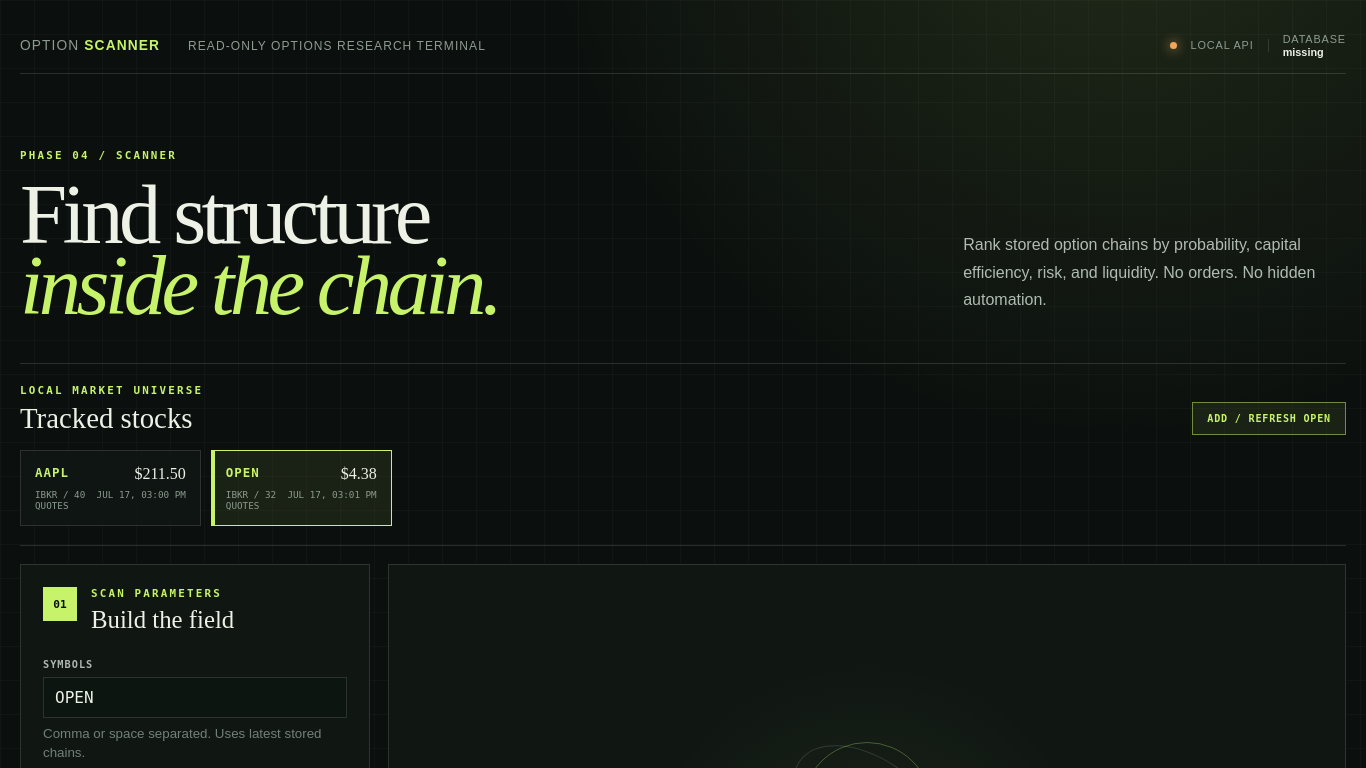
DashboardPage › renders stored stocks and selects one for scanning
Expected: the heading "Find structure" is shown, [20,168,428,261]
Click the button "AAPL $211.50 IBKR / 40 quotes Jul 17, 03:00 PM" at (110, 488), box [20,450,201,526]
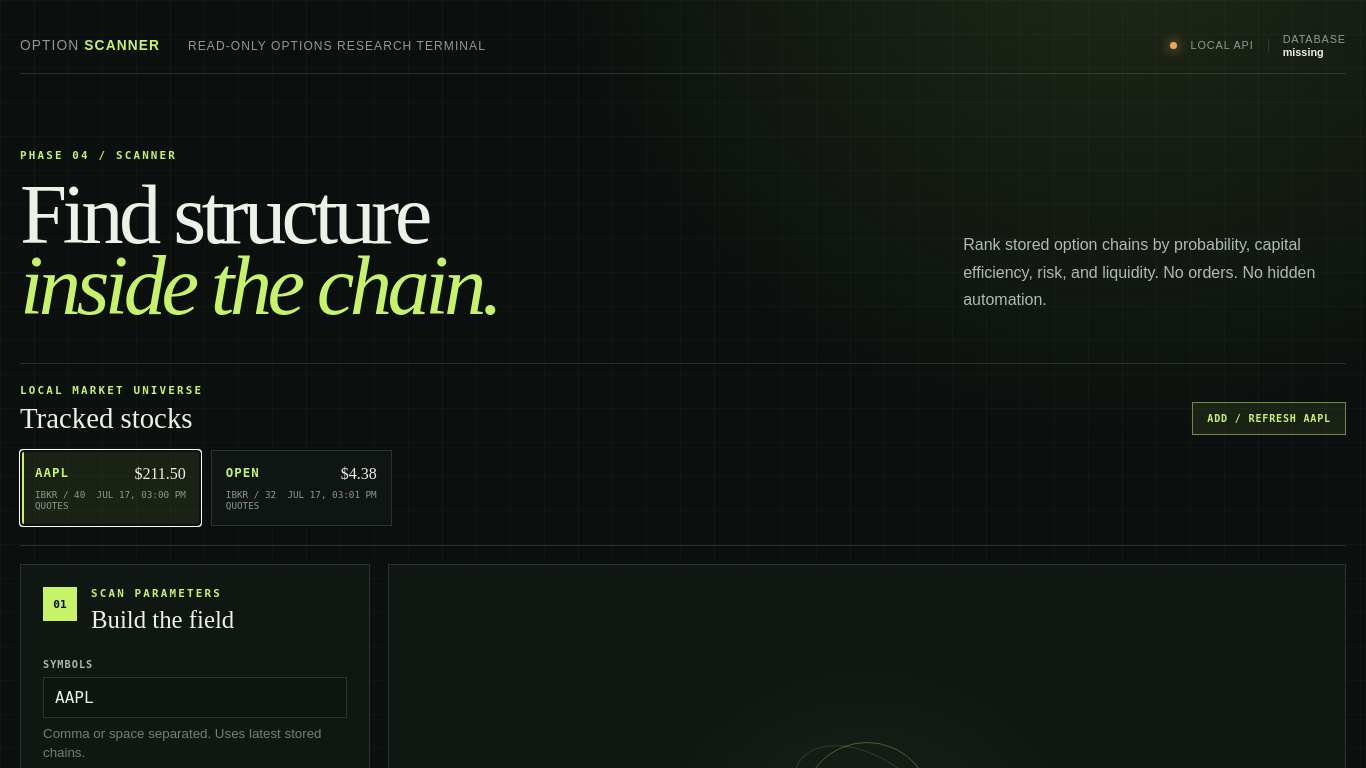
Result: the field labelled "Symbols Comma or space separated. Uses latest stored chains." holds "AAPL" at [43,677,347,718]
